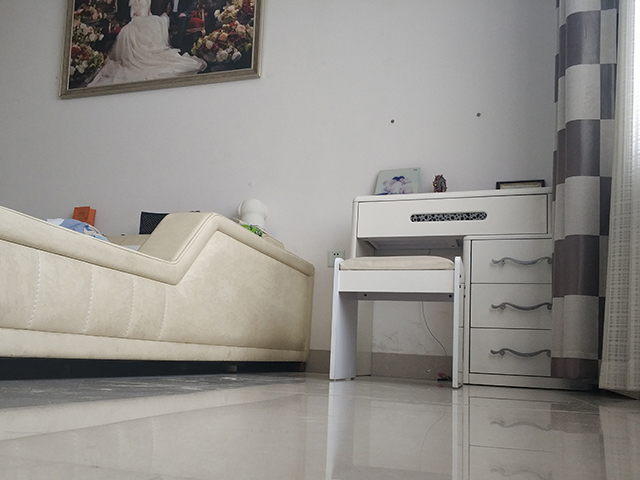cabinet: (348, 185, 591, 394)
curtain: (548, 1, 640, 401)
stool: (328, 253, 466, 391)
本地: (1, 196, 318, 384)
